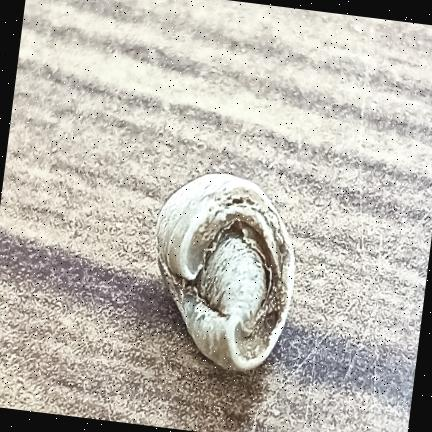cut: (156, 173, 294, 370)
